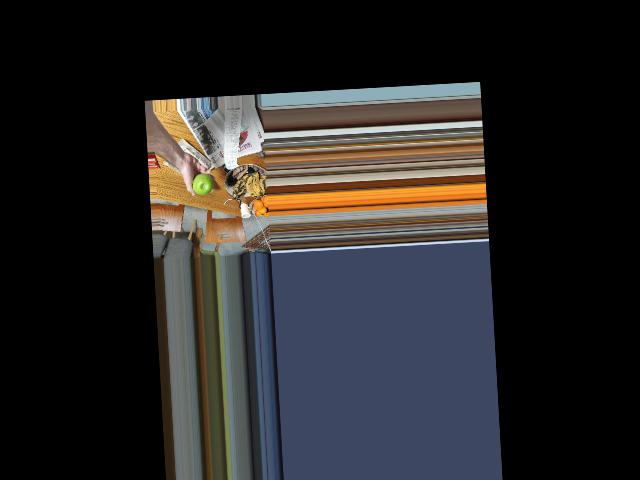apple: (192, 169, 213, 200)
